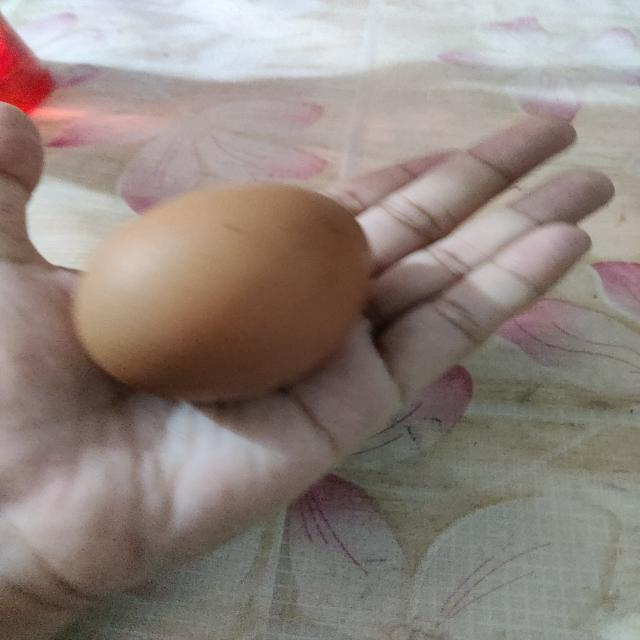egg: (67, 178, 380, 408)
